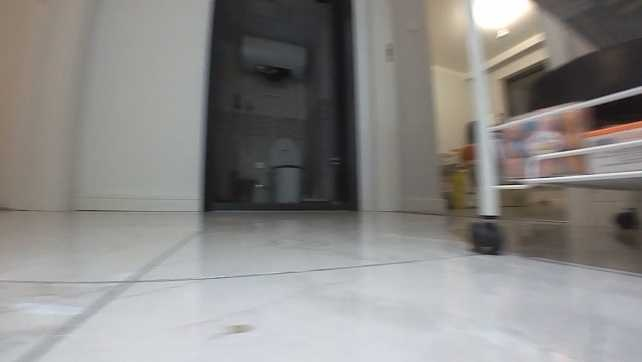door_sill: (209, 198, 349, 212)
toilet: (268, 133, 306, 201)
